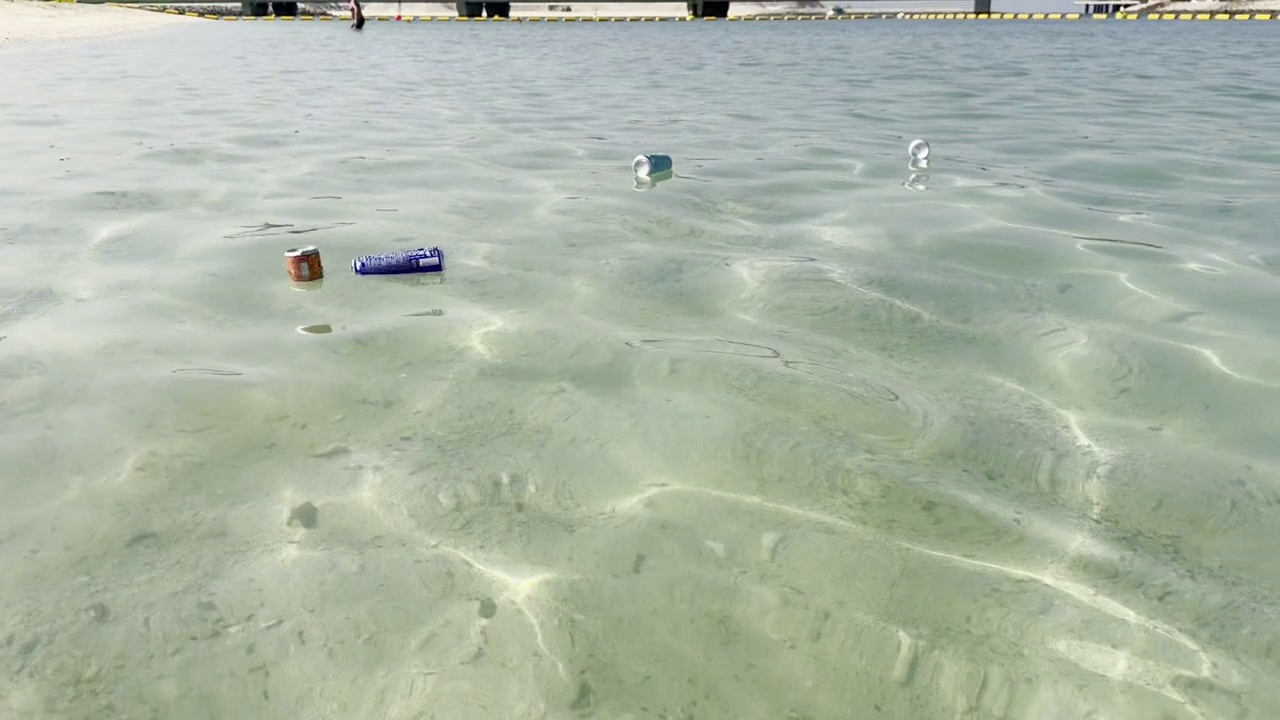debris: (276, 236, 333, 294), (349, 247, 448, 280), (626, 146, 681, 187), (903, 134, 933, 166)
